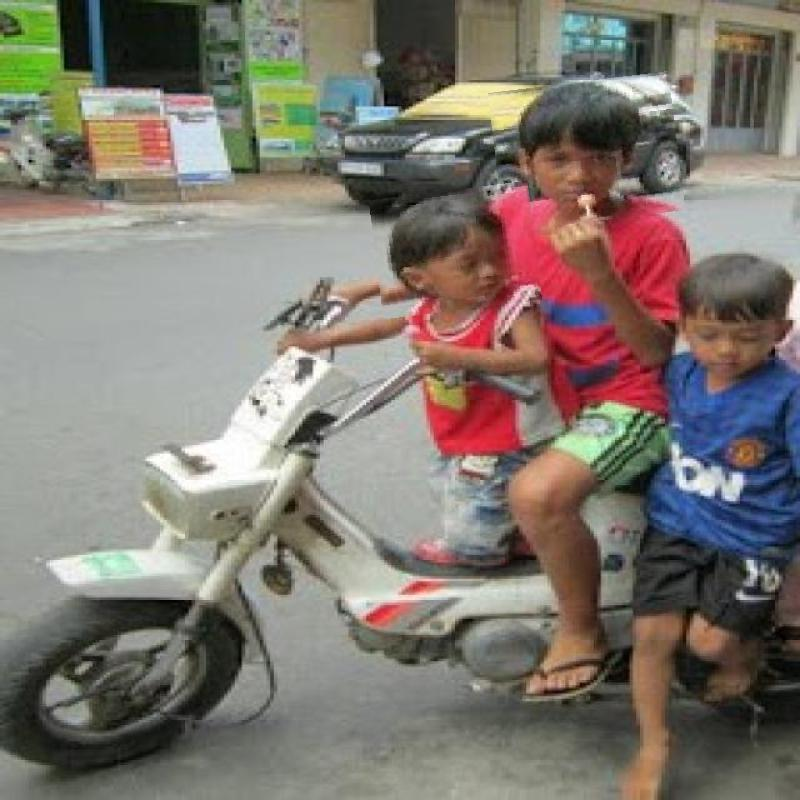nohelmet: (492, 76, 682, 228), (372, 186, 540, 315)
